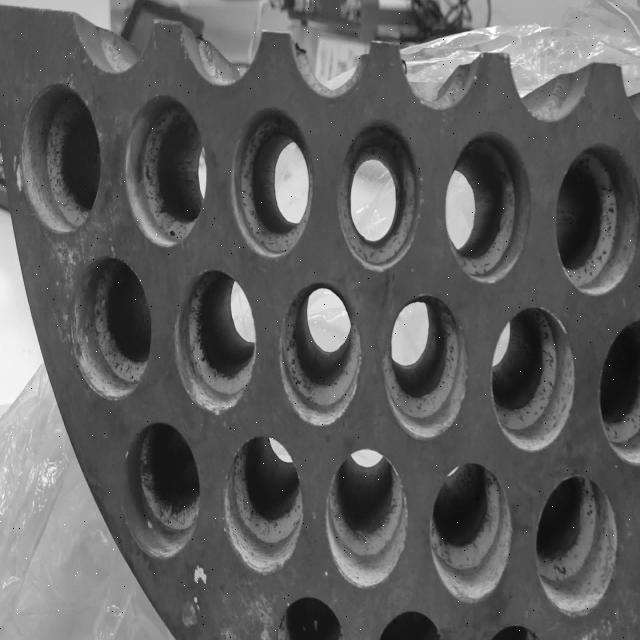Hole: (444, 131, 530, 284), (336, 119, 421, 272), (16, 83, 101, 234), (554, 144, 638, 296), (123, 95, 206, 248), (230, 107, 313, 259), (383, 293, 468, 441), (490, 306, 575, 453), (174, 267, 256, 414), (278, 283, 362, 426), (70, 255, 152, 401), (429, 461, 512, 603), (536, 474, 618, 616), (326, 448, 408, 588), (223, 434, 303, 574), (126, 422, 200, 558), (598, 316, 640, 466), (276, 592, 349, 640)
